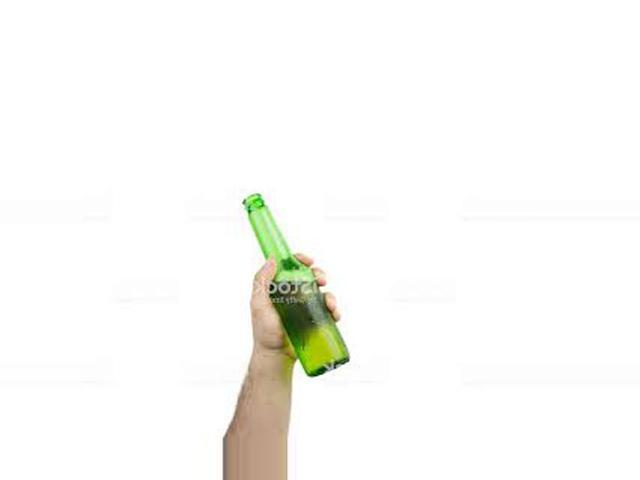beer: (241, 192, 350, 375)
